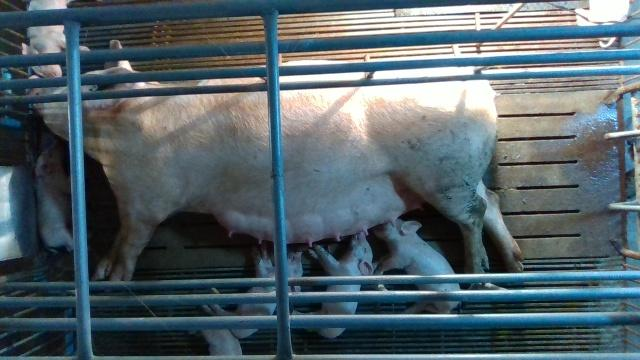piglet: (291, 229, 377, 339), (378, 215, 461, 314), (213, 249, 304, 339), (22, 0, 89, 78), (33, 142, 76, 253), (188, 304, 242, 355), (575, 0, 629, 49)
sow-sleep-lactate: (26, 38, 525, 272)
